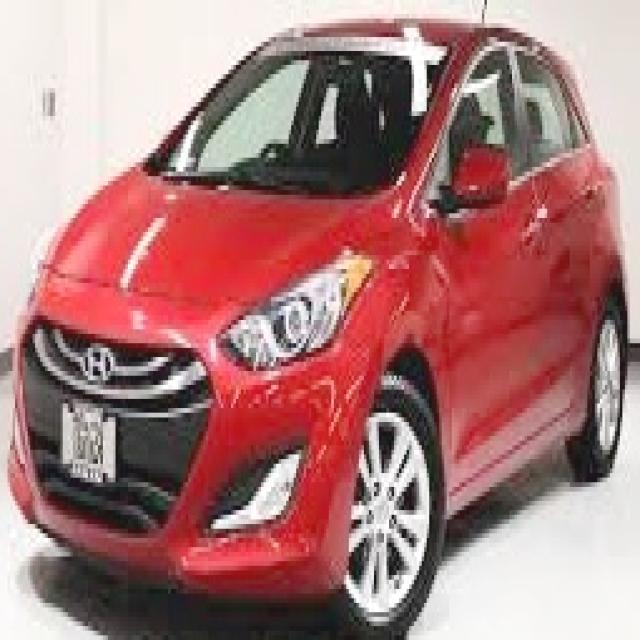red: (3, 11, 622, 590)
